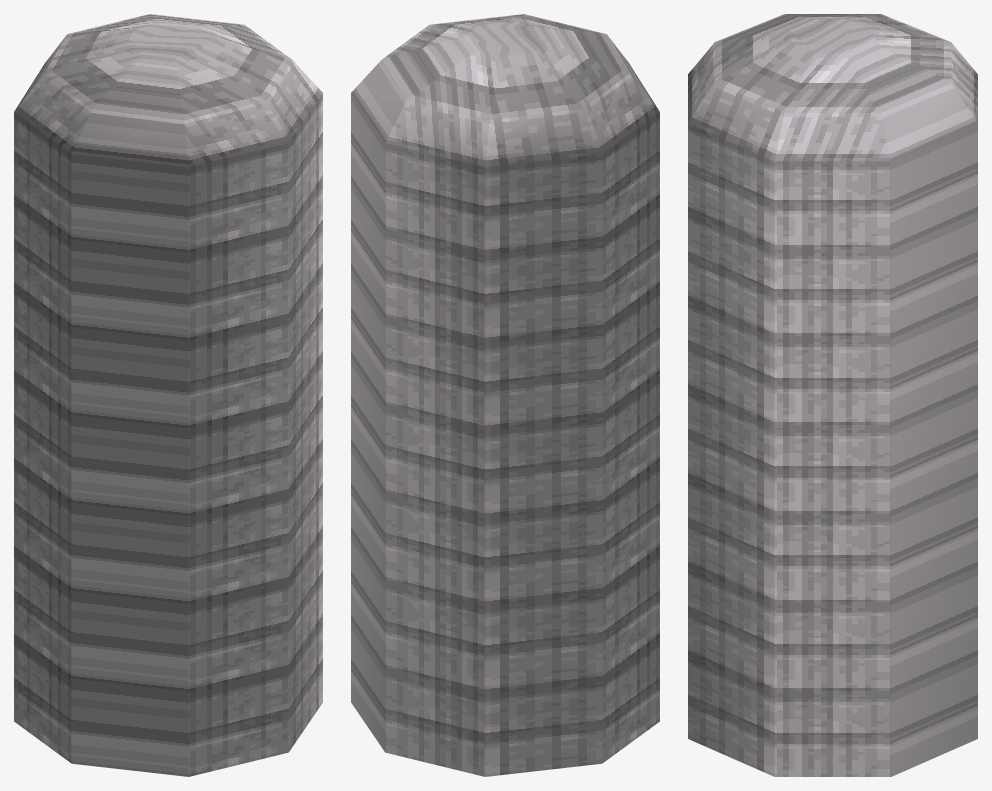
The model's file is uvmd-0059.glb.
The picture shows the model from 3 angles, left to right: view 1: azimuth 30°, elevation 25°; view 2: azimuth 150°, elevation 25°; view 3: azimuth 270°, elevation 25°; orthographic projection.
Parts seen in each view (by area): view 1: uvmd-0059; view 2: uvmd-0059; view 3: uvmd-0059.
Part boxes in pixels (x1,y1,x2,y2): uvmd-0059: [14, 14, 322, 776]; uvmd-0059: [351, 14, 659, 776]; uvmd-0059: [688, 14, 977, 776].
Size of the model in its own units: 88 by 225 by 87.
1 material, 1 textured.
